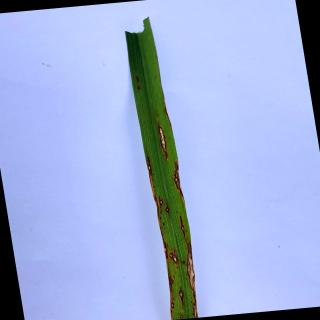Blast: (173, 159, 185, 201), (187, 243, 196, 298), (158, 123, 170, 160), (179, 214, 188, 240), (162, 241, 169, 259), (147, 157, 153, 176), (168, 277, 175, 292), (193, 298, 198, 318), (173, 250, 179, 266), (179, 288, 184, 302), (165, 204, 170, 214), (169, 252, 174, 259), (159, 198, 163, 204), (171, 303, 175, 308), (137, 85, 141, 90), (180, 314, 183, 319)
